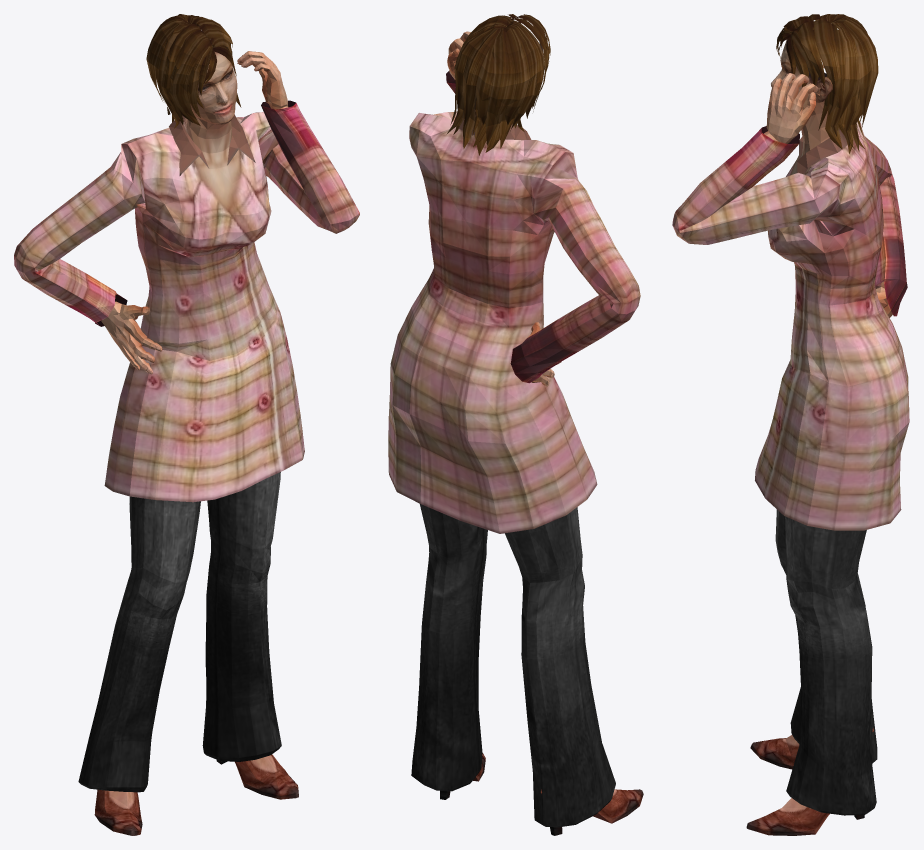
File: sweethome3d-reallusion-holding-female-9.glb
3 renders of one model, left to right at view 1: azimuth 30°, elevation 25°; view 2: azimuth 150°, elevation 25°; view 3: azimuth 270°, elevation 25°, orthographic.
Visible parts, largest first — view 1: Object01; view 2: Object01; view 3: Object01.
Boxes of the visible parts, <box> form: Object01: <box>14,14,359,835</box>; Object01: <box>388,14,643,835</box>; Object01: <box>672,14,909,835</box>.
Bounding box in the file's own units: 57.87 × 166 × 45.44.
Materials: 3 (3 with a texture image).
